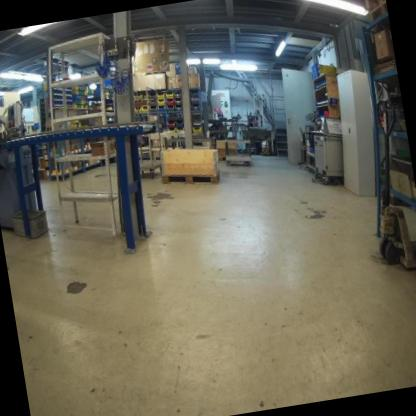pallet: (159, 163, 223, 193), (368, 1, 386, 18), (367, 0, 385, 6), (218, 153, 228, 162)
pallet_truck: (352, 93, 416, 277)
